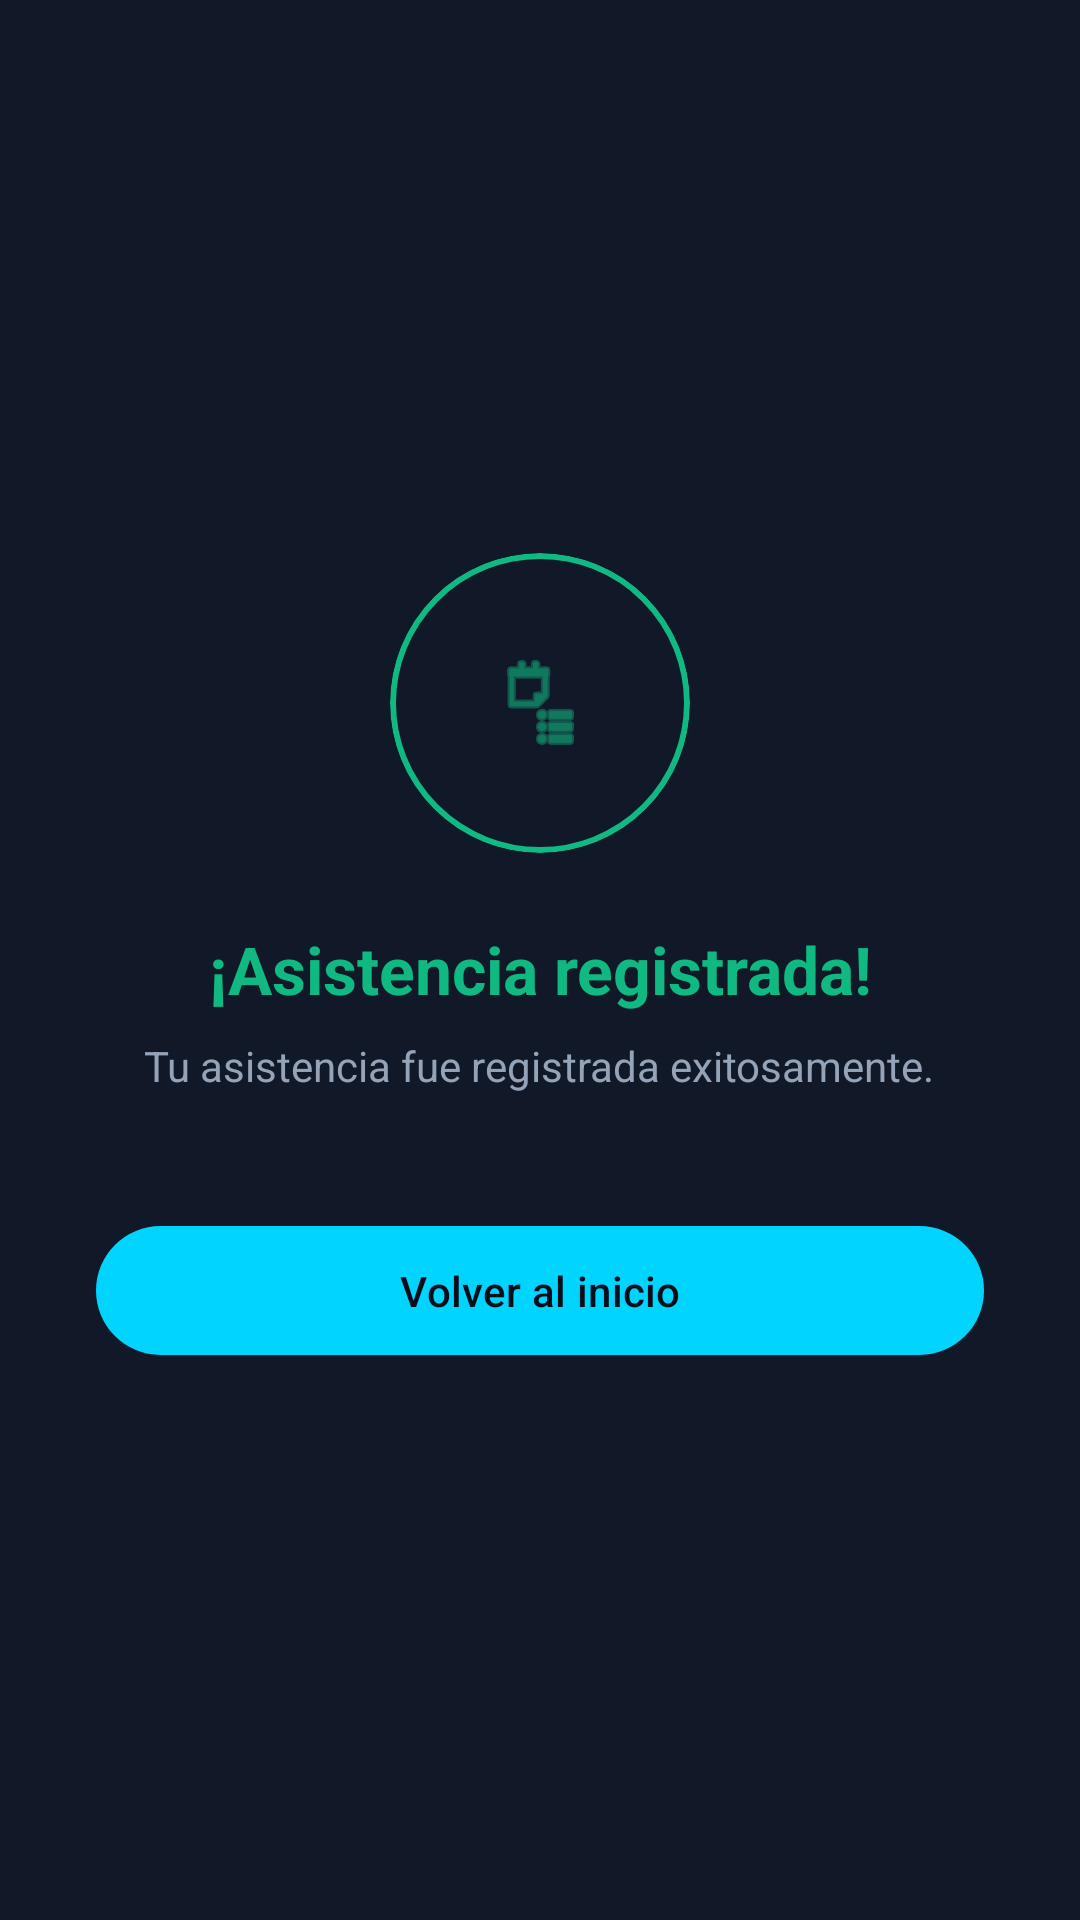

Named icons in this screenshot (1080px x 1920px) and their centers, [x,y]:
agenda: [540,703]
